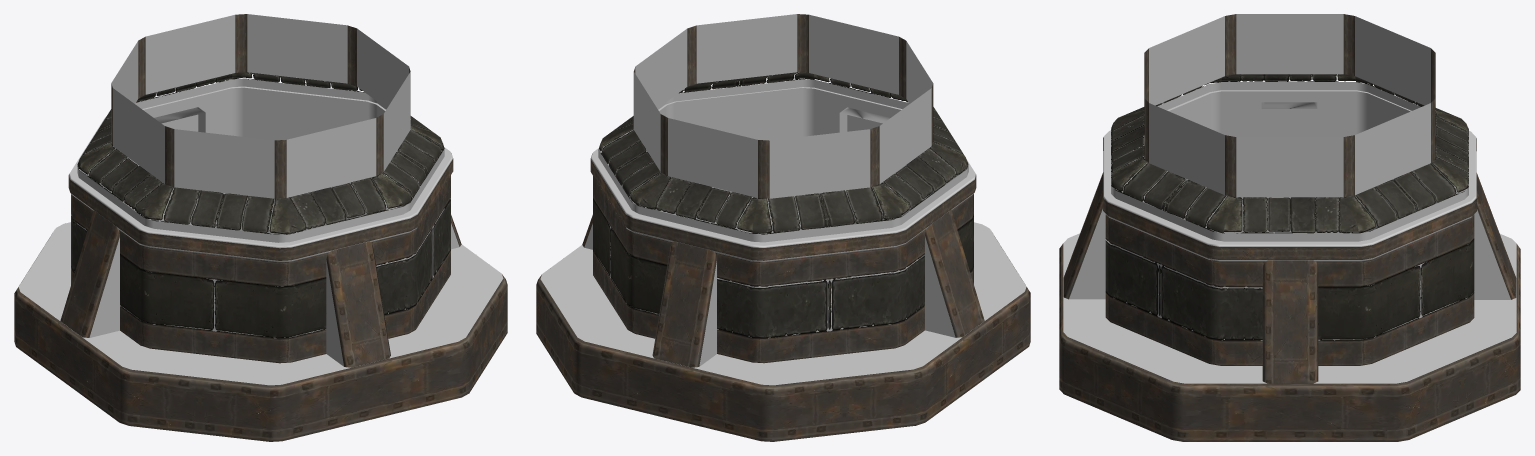
3 renders of one model, left to right at view 1: azimuth 30°, elevation 25°; view 2: azimuth 150°, elevation 25°; view 3: azimuth 270°, elevation 25°, orthographic. The views are drawn at different scales.
Parts seen in each view (by area): view 1: SM_Dowdun_Corner_Turret_04_LOD0; view 2: SM_Dowdun_Corner_Turret_04_LOD0; view 3: SM_Dowdun_Corner_Turret_04_LOD0.
Boxes of the visible parts, x1,y1,x2,y2 form: SM_Dowdun_Corner_Turret_04_LOD0: (14,14,507,441); SM_Dowdun_Corner_Turret_04_LOD0: (536,14,1030,441); SM_Dowdun_Corner_Turret_04_LOD0: (1059,14,1520,441).
Size of the model in its own units: 9.36 by 6.02 by 9.36.
